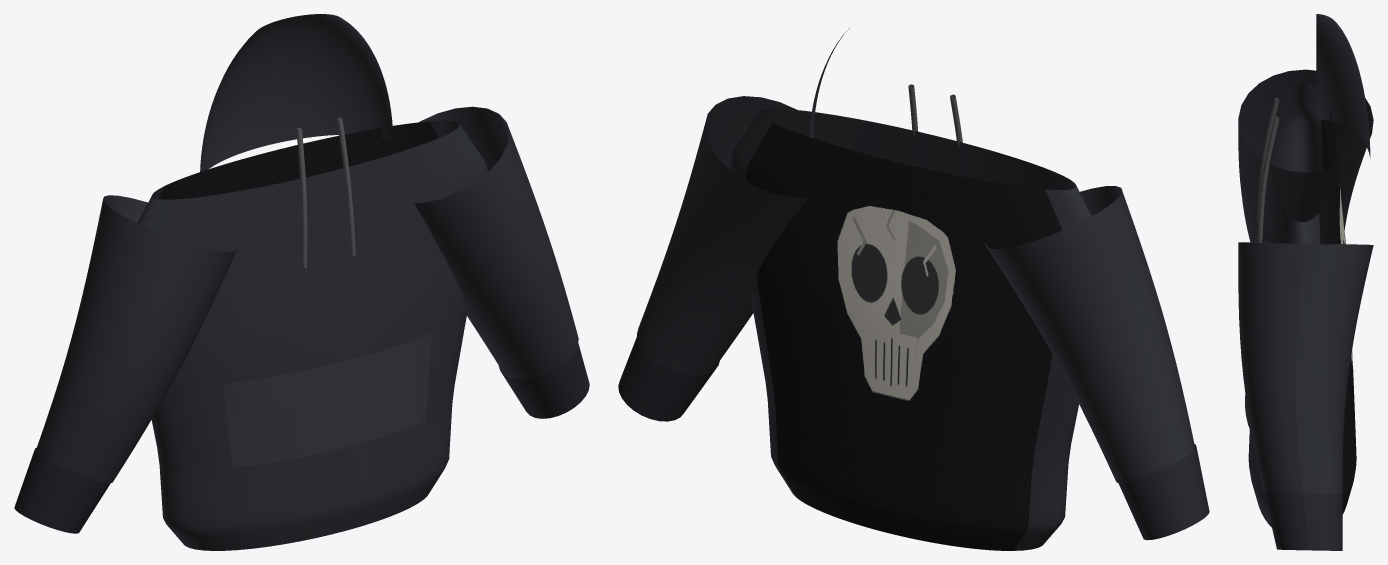
The model's file is hoodie-skull-v1.glb.
The picture shows the model from 3 angles, left to right: view 1: azimuth 30°, elevation 25°; view 2: azimuth 150°, elevation 25°; view 3: azimuth 270°, elevation 25°; orthographic projection. The views are drawn at different scales.
Parts seen in each view (by area): view 1: front-pullover-torso-plain, left-sleeve, right-sleeve, pullover-hood-shell, front-kangaroo-pocket-plain, back-pullover-torso-print-panel, left-rib-cuff, right-rib-cuff, hood-drawcord-left, hood-drawcord-right; view 2: back-pullover-torso-print-panel, left-sleeve, right-sleeve, front-pullover-torso-plain, left-rib-cuff, right-rib-cuff; view 3: right-sleeve, left-sleeve, front-pullover-torso-plain, pullover-hood-shell, right-rib-cuff, back-pullover-torso-print-panel, hood-drawcord-right, hood-drawcord-left.
Boxes of the visible parts, left/top/right/bottom form: front-pullover-torso-plain: left=137, top=120, right=488, bottom=550; left-sleeve: left=35, top=195, right=236, bottom=483; right-sleeve: left=414, top=106, right=578, bottom=379; pullover-hood-shell: left=200, top=14, right=393, bottom=171; front-kangaroo-pocket-plain: left=223, top=333, right=431, bottom=467; back-pullover-torso-print-panel: left=158, top=121, right=438, bottom=199; left-rib-cuff: left=14, top=448, right=110, bottom=533; right-rib-cuff: left=499, top=343, right=589, bottom=418; hood-drawcord-left: left=296, top=127, right=307, bottom=268; hood-drawcord-right: left=337, top=117, right=355, bottom=256; back-pullover-torso-print-panel: left=745, top=123, right=1062, bottom=550; left-sleeve: left=985, top=186, right=1195, bottom=483; right-sleeve: left=637, top=96, right=808, bottom=375; front-pullover-torso-plain: left=729, top=108, right=1091, bottom=550; left-rib-cuff: left=1118, top=444, right=1209, bottom=540; right-rib-cuff: left=618, top=337, right=719, bottom=421; right-sleeve: left=1238, top=242, right=1373, bottom=493; left-sleeve: left=1238, top=69, right=1373, bottom=242; front-pullover-torso-plain: left=1248, top=82, right=1323, bottom=527; pullover-hood-shell: left=1316, top=14, right=1370, bottom=158; right-rib-cuff: left=1264, top=492, right=1342, bottom=550; back-pullover-torso-print-panel: left=1319, top=111, right=1356, bottom=514; hood-drawcord-right: left=1257, top=116, right=1279, bottom=242; hood-drawcord-left: left=1257, top=98, right=1279, bottom=220.
Bounding box in the file's own units: 2.66 × 2.17 × 0.5883.
Materials: 6 (1 with a texture image).
